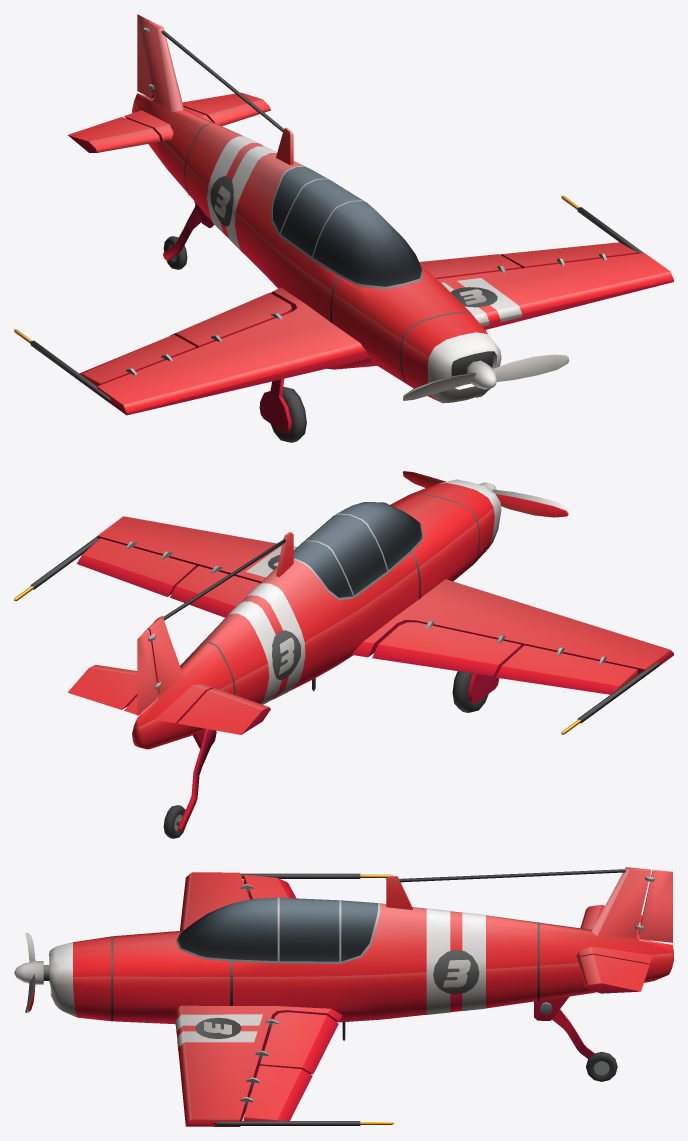
The picture shows the model from 3 angles, top to bottom: view 1: azimuth 30°, elevation 25°; view 2: azimuth 150°, elevation 25°; view 3: azimuth 270°, elevation 25°; orthographic projection. The views are drawn at different scales.
Visible parts, largest first — view 1: Fuselage_1A, Livery_1A, Propeller_1A, Flap_1A_F.R, Aileron_1A_F.L.001, Elevator_1A_R.R, Aileron_1A_F.L, Elevator_1A_R.L, Flap_1A_F.L, Landing_Gear_1A_F.R, Rudder_1A, Wheel_1A_F.R (+1 smaller); view 2: Fuselage_1A, Flap_1A_F.R, Livery_1A, Aileron_1A_F.L.001, Aileron_1A_F.L, Elevator_1A_R.R, Flap_1A_F.L, Elevator_1A_R.L, Propeller_1A, Rudder_1A, Landing_Gear_1A_R, Wheel_1A_F.R (+1 smaller); view 3: Fuselage_1A, Livery_1A, Flap_1A_F.L, Aileron_1A_F.L, Elevator_1A_R.L, Rudder_1A, Aileron_1A_F.L.001, Propeller_1A, Wheel_1A_R, Landing_Gear_1A_R, Elevator_1A_R.R.
Boxes of the visible parts, x1,y1,x2,y2 form: Fuselage_1A: (14,20,673,415); Livery_1A: (207,136,522,326); Propeller_1A: (403,354,569,400); Flap_1A_F.R: (170,292,291,348); Aileron_1A_F.L.001: (79,334,196,386); Elevator_1A_R.R: (68,117,160,152); Aileron_1A_F.L: (500,242,637,268); Elevator_1A_R.L: (182,92,270,125); Flap_1A_F.L: (419,254,521,278); Landing_Gear_1A_F.R: (259,379,291,433); Rudder_1A: (137,14,154,98); Wheel_1A_F.R: (271,386,306,442); Fuselage_1A: (14,479,673,749); Flap_1A_F.R: (372,621,521,676); Livery_1A: (223,545,305,704); Aileron_1A_F.L.001: (496,645,637,694); Aileron_1A_F.L: (76,538,196,596); Elevator_1A_R.R: (178,688,270,734); Flap_1A_F.L: (170,566,259,617); Elevator_1A_R.L: (68,665,137,709); Propeller_1A: (403,471,569,517); Rudder_1A: (137,629,161,715); Landing_Gear_1A_R: (176,729,216,831); Wheel_1A_F.R: (452,671,488,712); Fuselage_1A: (43,867,673,1126); Livery_1A: (175,908,485,1049); Flap_1A_F.L: (255,1012,338,1074); Aileron_1A_F.L: (240,1065,312,1120); Elevator_1A_R.L: (578,954,649,993); Rudder_1A: (635,870,672,942); Aileron_1A_F.L.001: (240,874,295,899); Propeller_1A: (14,932,43,1012); Wheel_1A_R: (586,1051,617,1081); Landing_Gear_1A_R: (539,1002,594,1058); Elevator_1A_R.R: (580,905,642,938).
Bounding box in the file's own units: 7.19 × 2.88 × 8.06.
